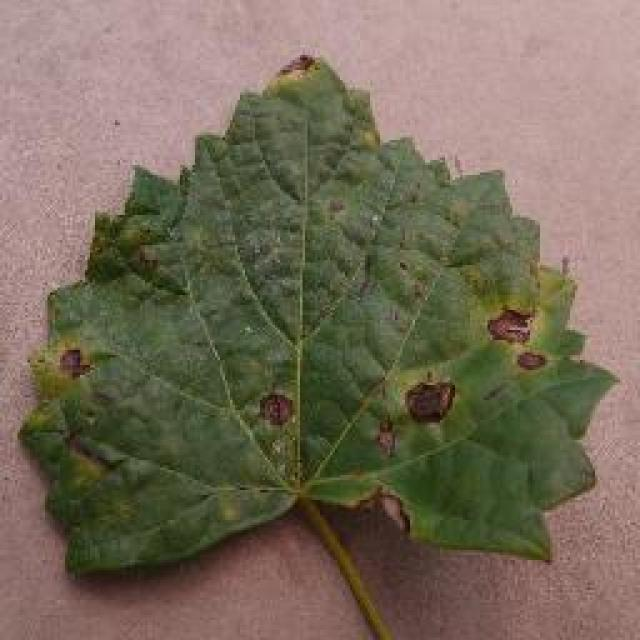Grape___Black_rot: (6, 49, 627, 584)
